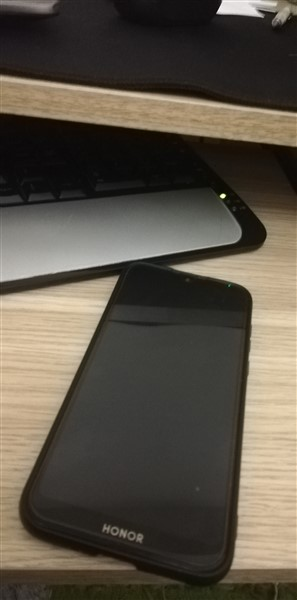telefon: (14, 258, 265, 589)
